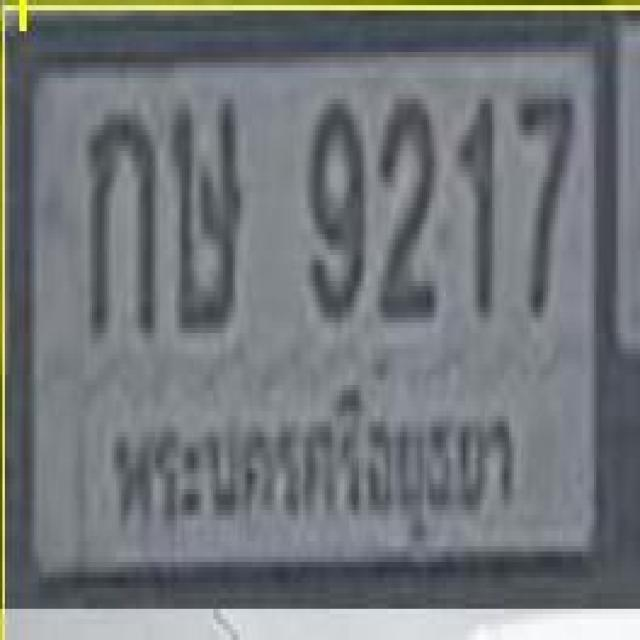license_plate: (21, 34, 616, 590)
